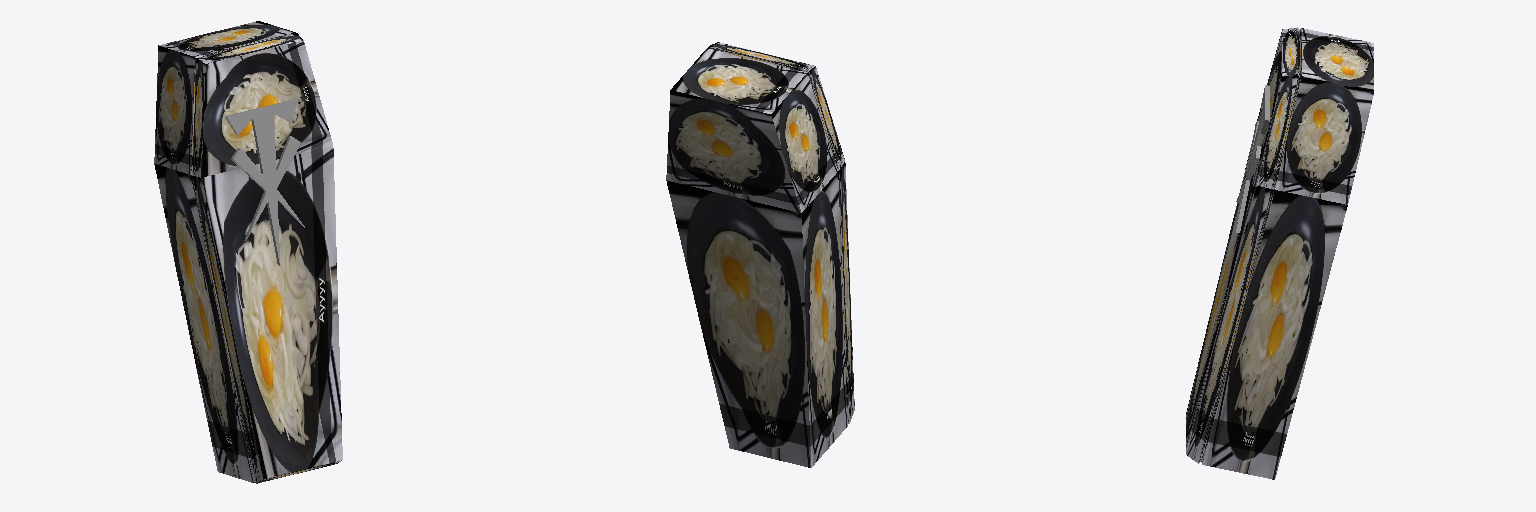
The picture shows the model from 3 angles: view 1: azimuth 30°, elevation 25°; view 2: azimuth 150°, elevation 25°; view 3: azimuth 270°, elevation 25°; orthographic projection.
Visible parts, largest first — view 1: coffin_Cube.002_Material.003, symbol_Cube.001; view 2: coffin_Cube.002_Material.003; view 3: coffin_Cube.002_Material.003, symbol_Cube.001.
Boxes of the visible parts, <box> form: coffin_Cube.002_Material.003: <box>154,21,342,483</box>; symbol_Cube.001: <box>225,99,304,265</box>; coffin_Cube.002_Material.003: <box>666,42,854,467</box>; coffin_Cube.002_Material.003: <box>1186,27,1373,479</box>; symbol_Cube.001: <box>1229,85,1269,246</box>.
Bounding box in the file's own units: 2.69 × 7.75 × 3.25.
Materials: 2 (1 with a texture image).